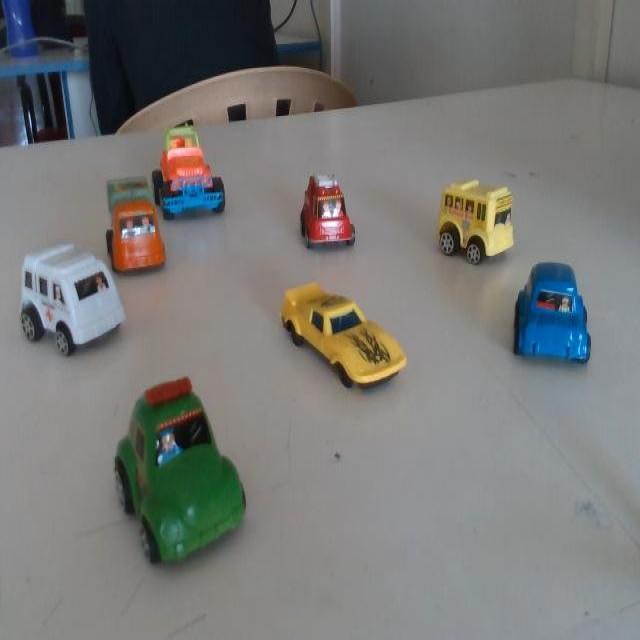car: (102, 382, 242, 550), (10, 222, 132, 374), (275, 274, 408, 396), (514, 262, 593, 366), (428, 178, 511, 274), (157, 119, 237, 218), (287, 164, 357, 264), (103, 166, 166, 276)
